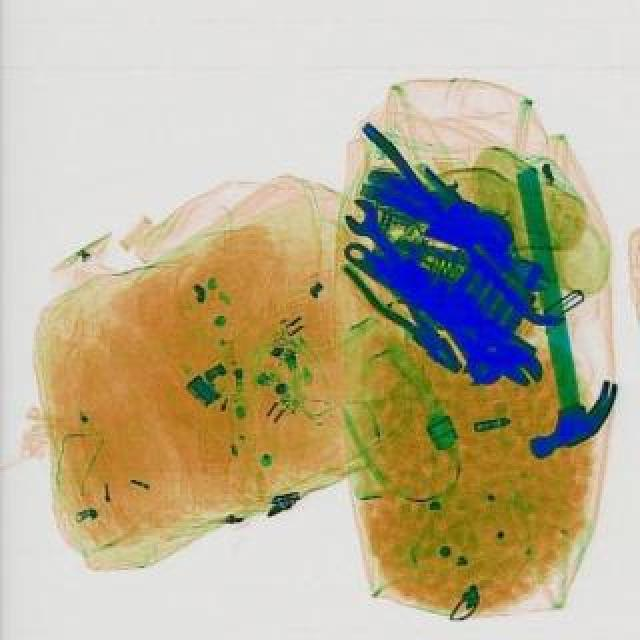scissors: (332, 230, 552, 392), (334, 192, 468, 320), (474, 230, 556, 296)
wrench: (340, 236, 480, 384)
